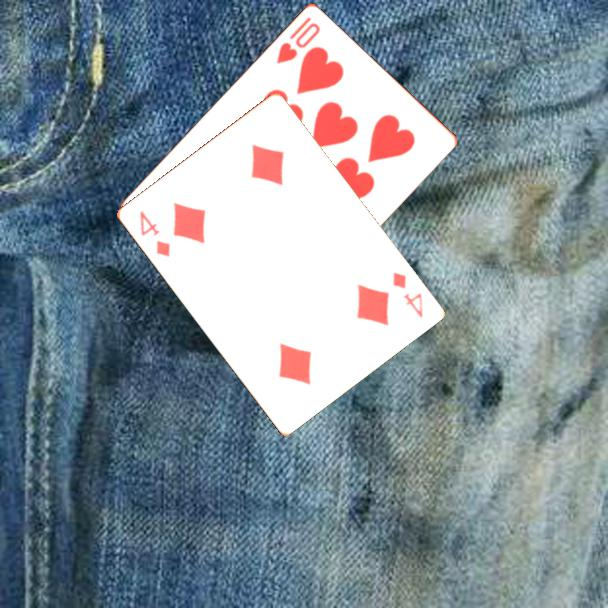d04: (135, 207, 173, 260), (389, 269, 426, 321)
h10: (273, 13, 323, 66)
